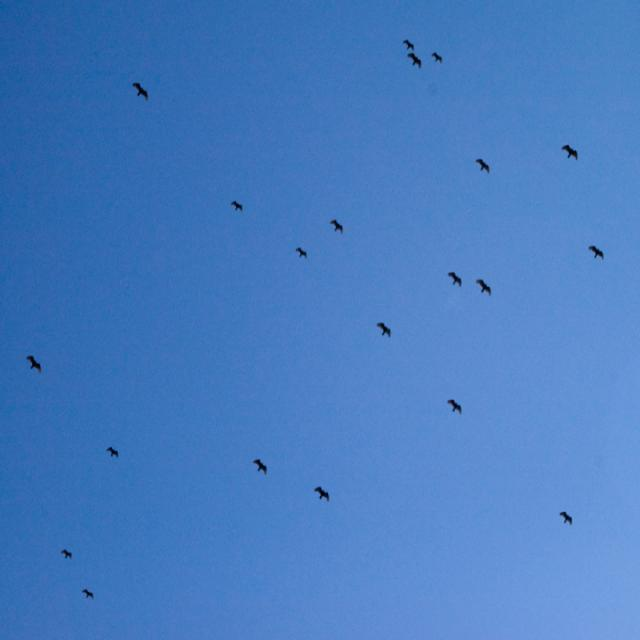bird: (131, 83, 150, 103), (406, 53, 424, 71), (25, 357, 42, 376), (562, 146, 580, 163), (375, 323, 393, 340), (253, 459, 270, 477), (476, 278, 492, 296), (588, 245, 606, 261), (313, 486, 329, 503), (447, 400, 463, 417), (475, 159, 491, 175), (330, 220, 346, 236), (447, 272, 463, 288), (558, 511, 574, 527), (230, 199, 244, 215), (107, 446, 122, 460), (402, 40, 417, 53), (295, 249, 310, 262), (82, 588, 95, 601), (60, 548, 73, 560), (432, 53, 444, 65)
